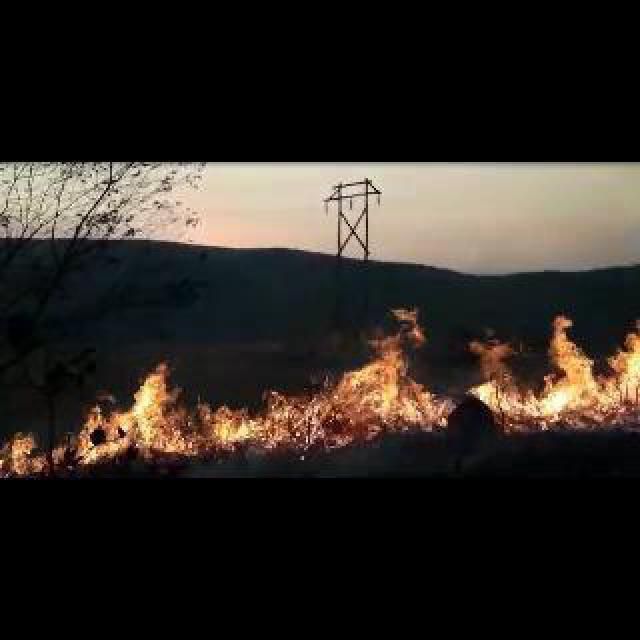Fire: (2, 310, 452, 472), (468, 307, 640, 439)
